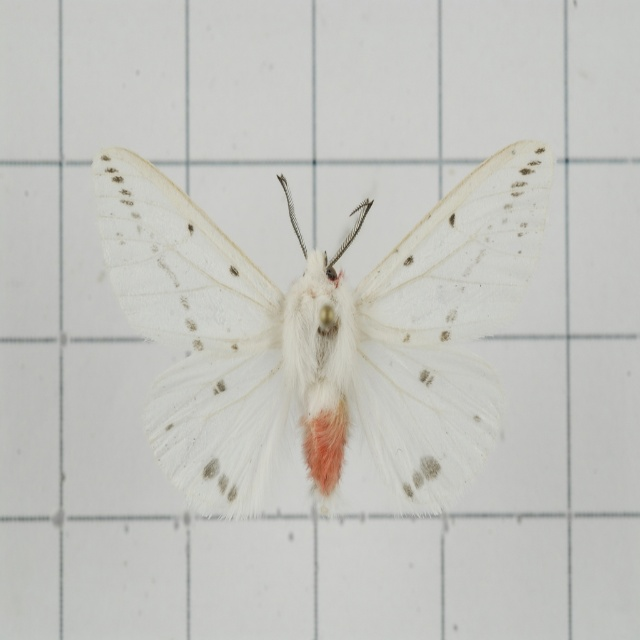Butterfly: (88, 141, 552, 525)
